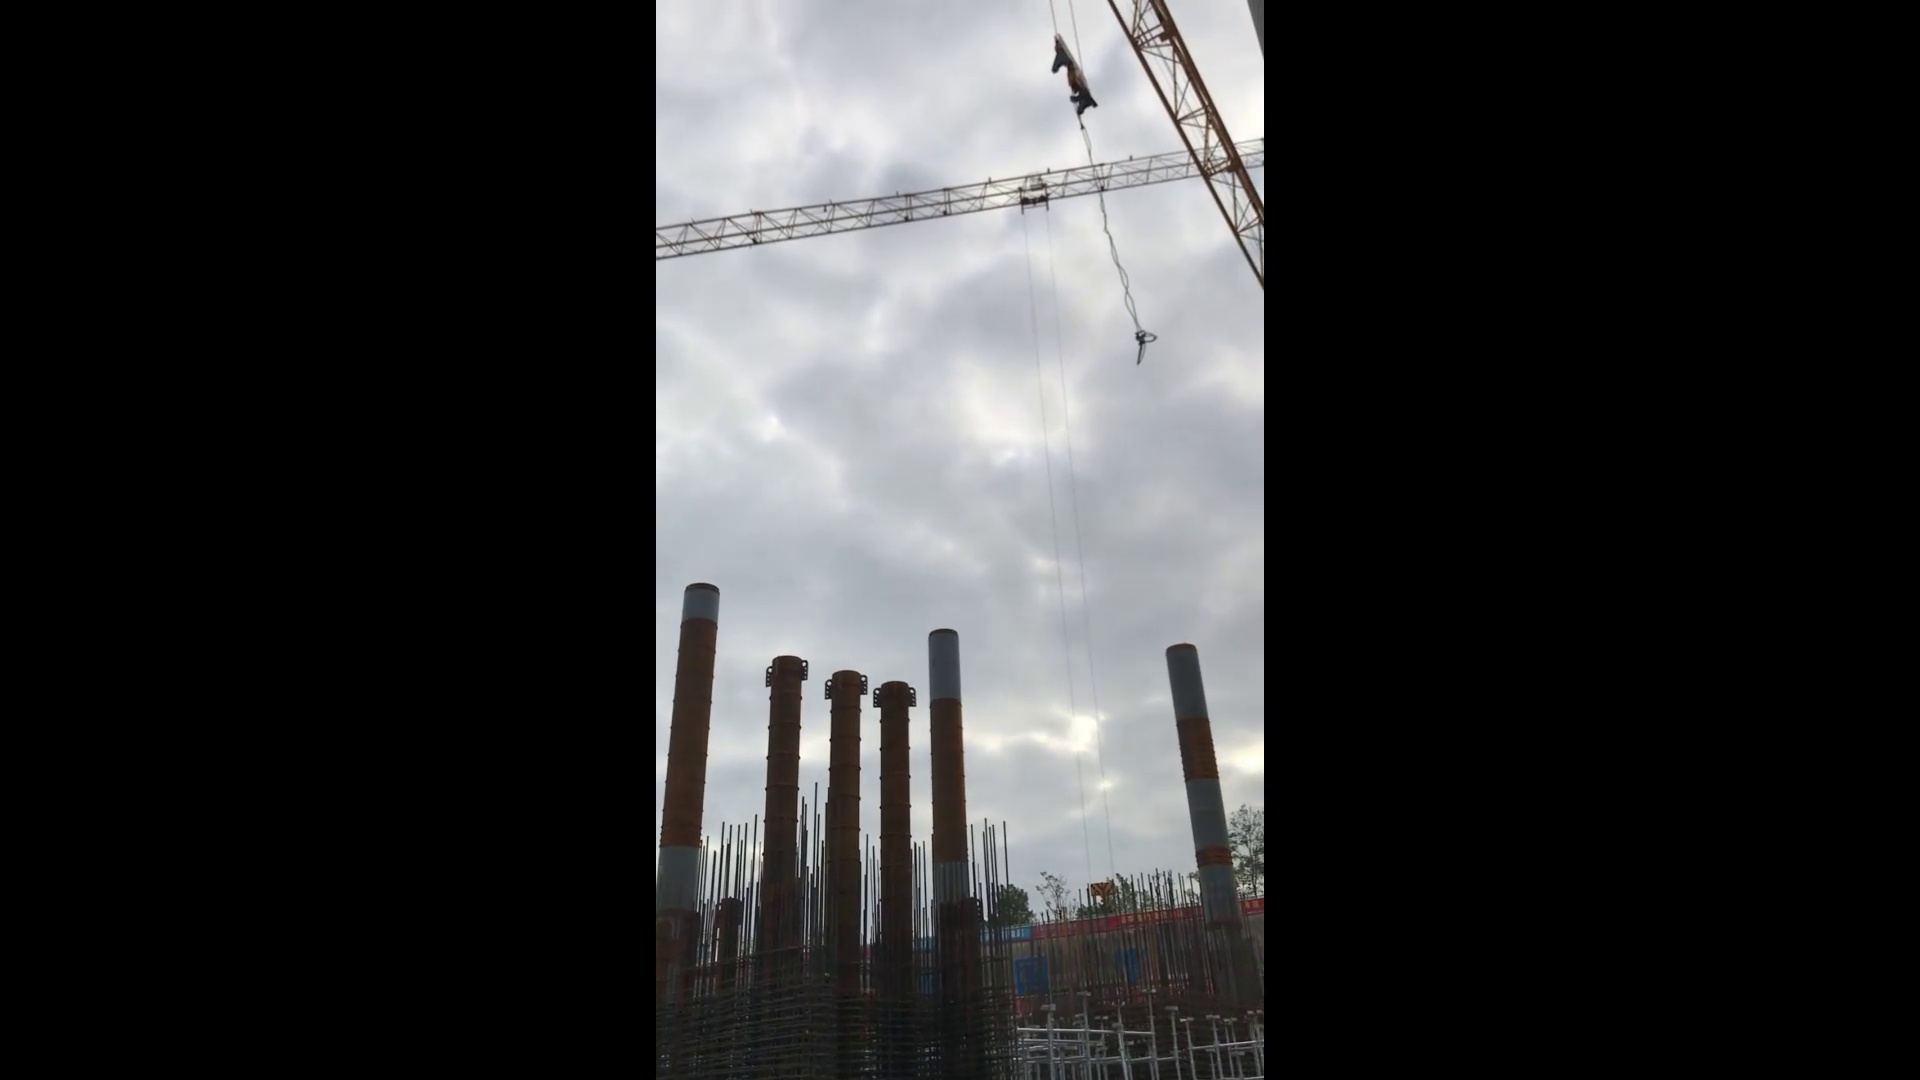hook: (1031, 28, 1110, 117)
